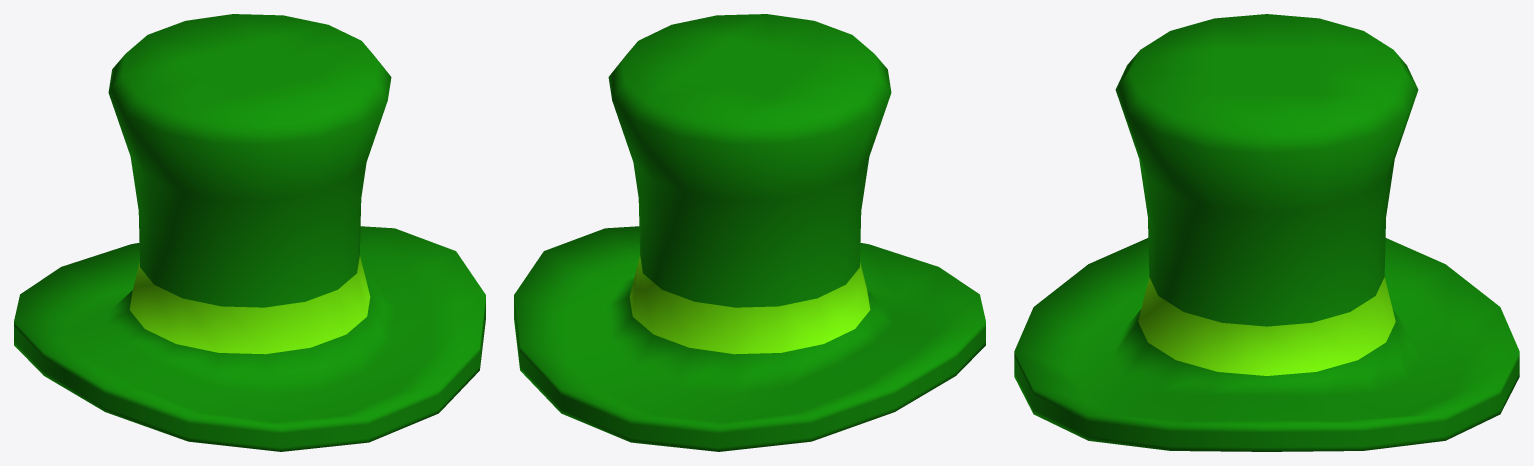
Rendered from hat.fbx.
3 renders of one model, left to right at view 1: azimuth 30°, elevation 25°; view 2: azimuth 150°, elevation 25°; view 3: azimuth 270°, elevation 25°, orthographic. The views are drawn at different scales.
Visible parts, largest first — view 1: chapeau.001; view 2: chapeau.001; view 3: chapeau.001.
Part boxes in pixels (left/top/right/bottom): chapeau.001: left=14, top=14, right=485, bottom=451; chapeau.001: left=514, top=14, right=985, bottom=451; chapeau.001: left=1014, top=14, right=1519, bottom=451.
Size of the model in its own units: 14.77 by 10.45 by 14.77.
